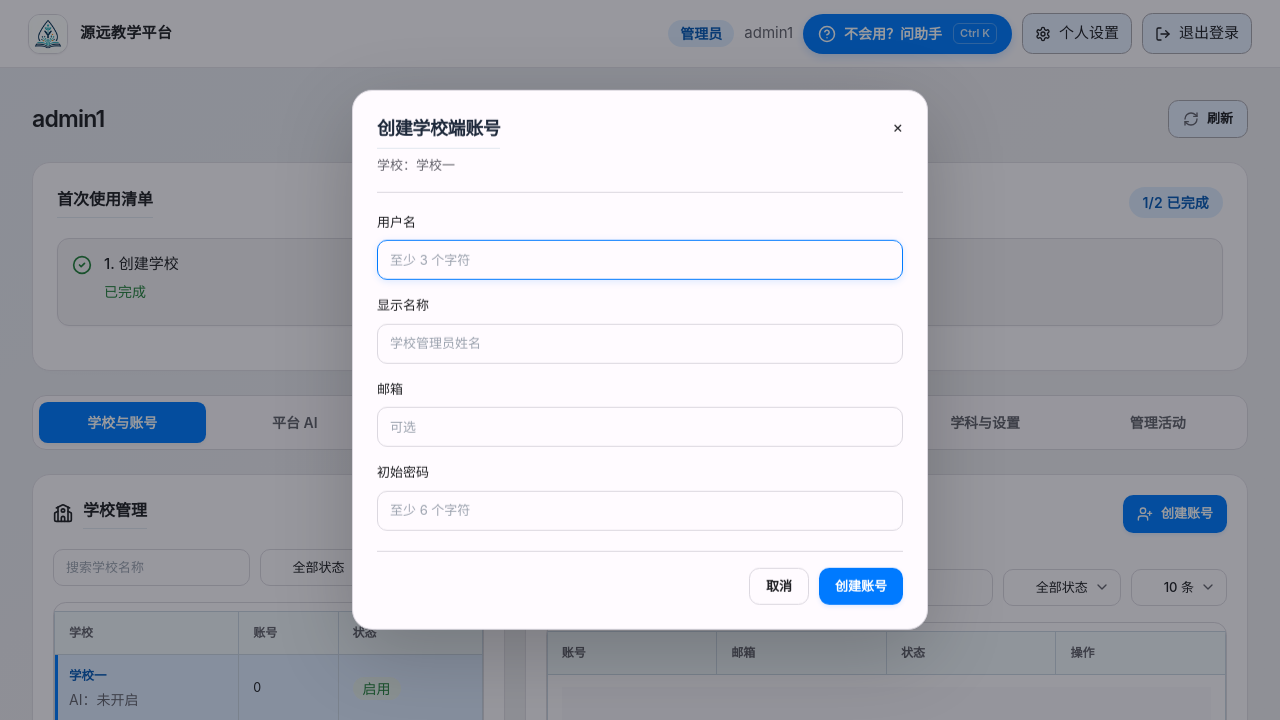
Test: AdminWorkspace › does not let a school-account operation overwrite the new school's open dialog
Earlier steps of the test are not shown.
Type "school_admin" into the field labelled "用户名".
click(640, 260); type("school_admin")  # box [377,240,903,280]
Type "学校管理员" into the field labelled "显示名称".
click(640, 344); type("学校管理员")  # box [377,324,903,364]
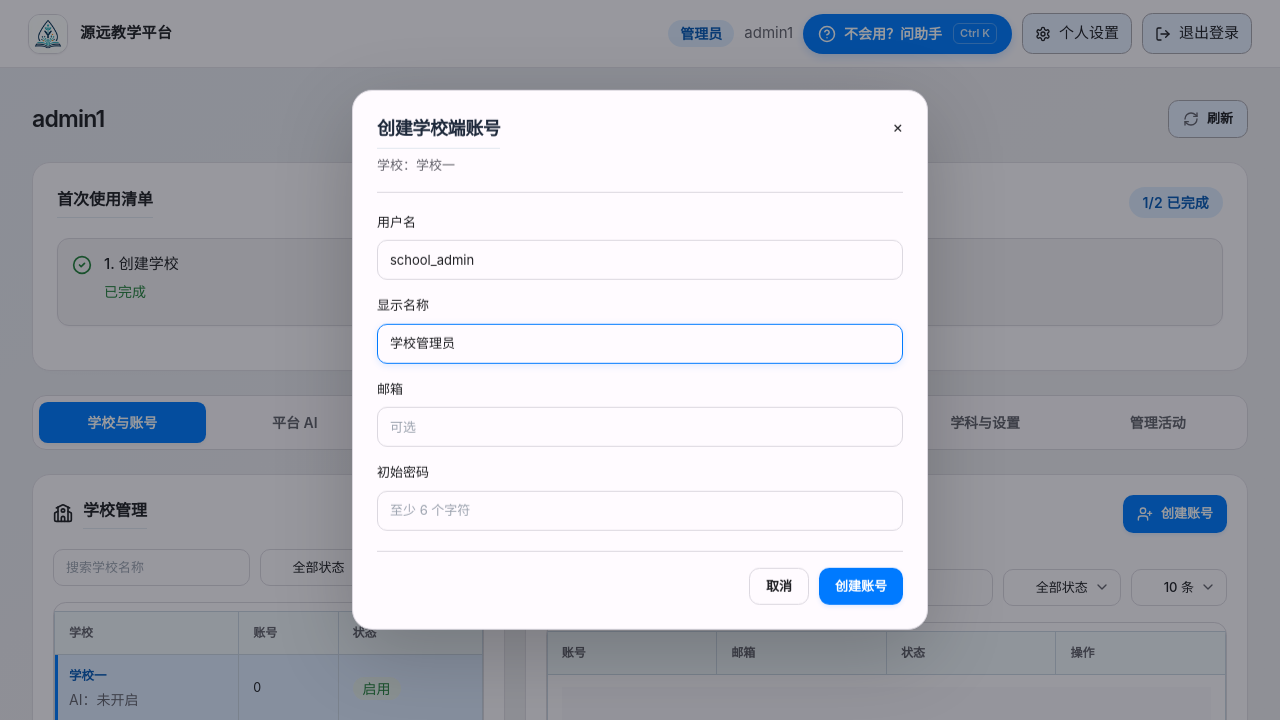
Type "password123" into the password field labelled "初始密码".
click(640, 511); type("password123")  # box [377,491,903,531]
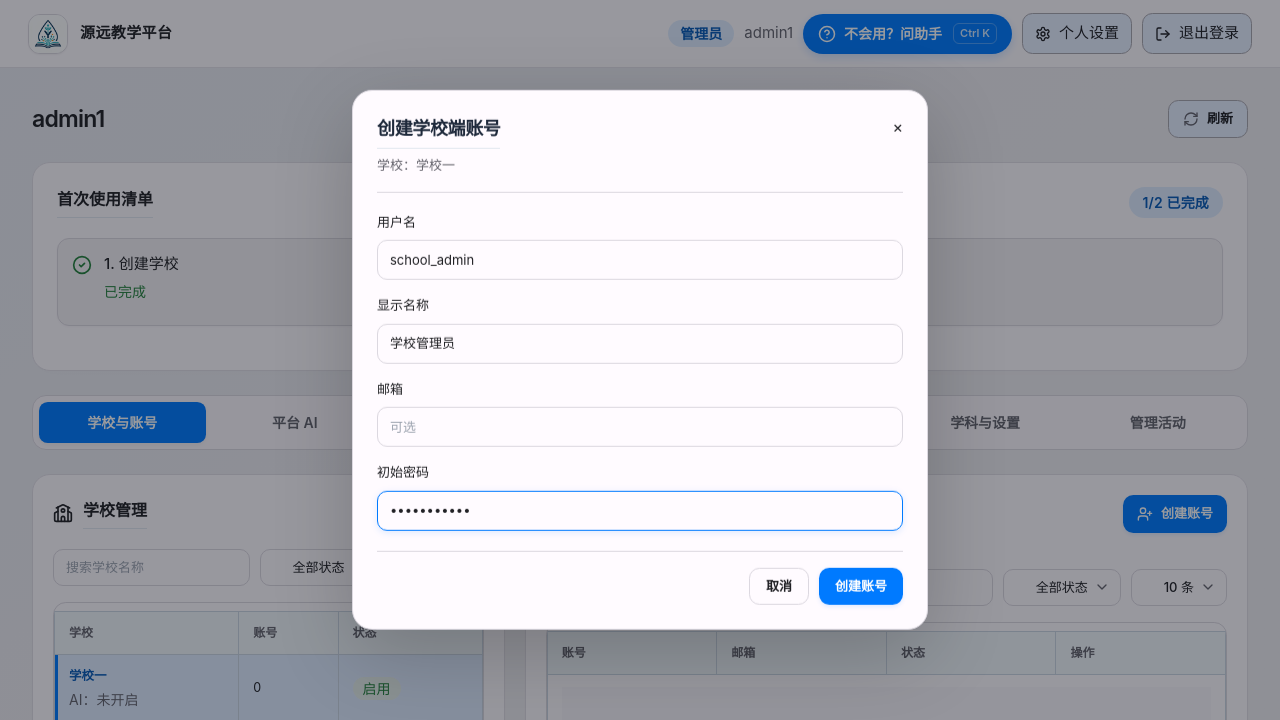
Click the button "创建账号".
click(861, 586)  # box [819,568,903,605]
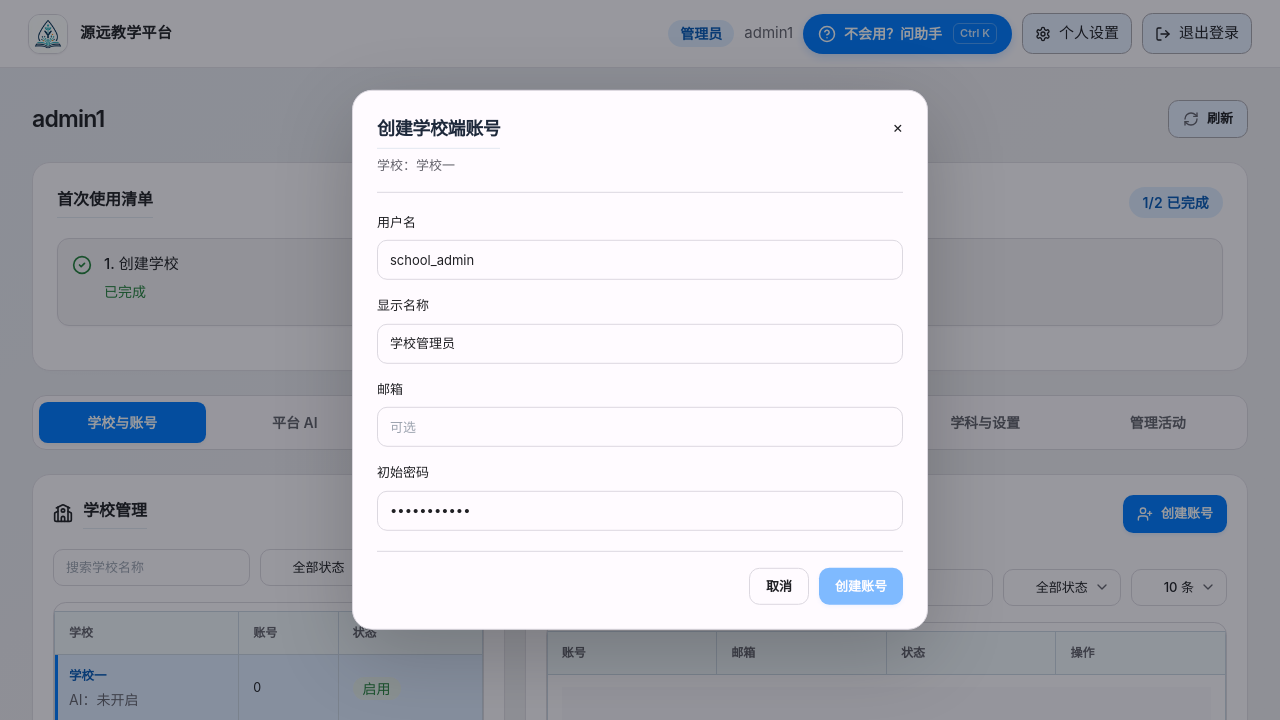
Press Escape
(page scrolled)
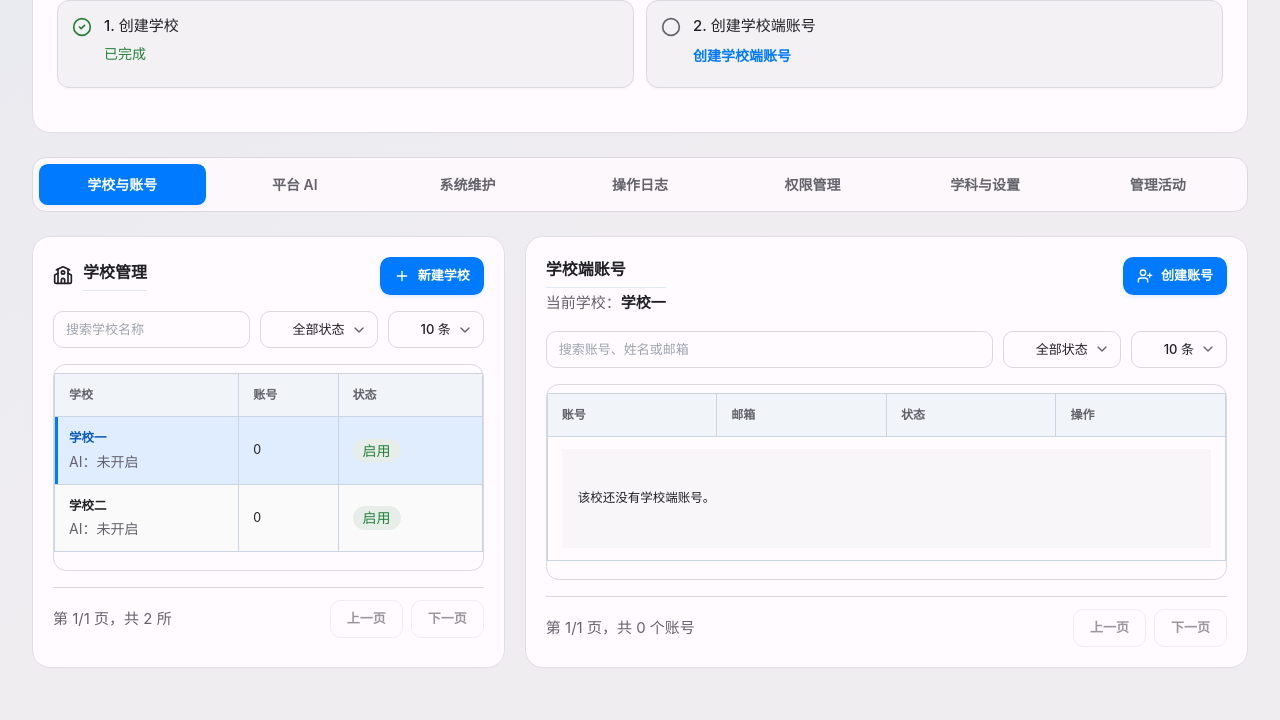
expect the dialog is gone: met
Click the button "学校二".
click(88, 506)  # box [69,497,106,516]
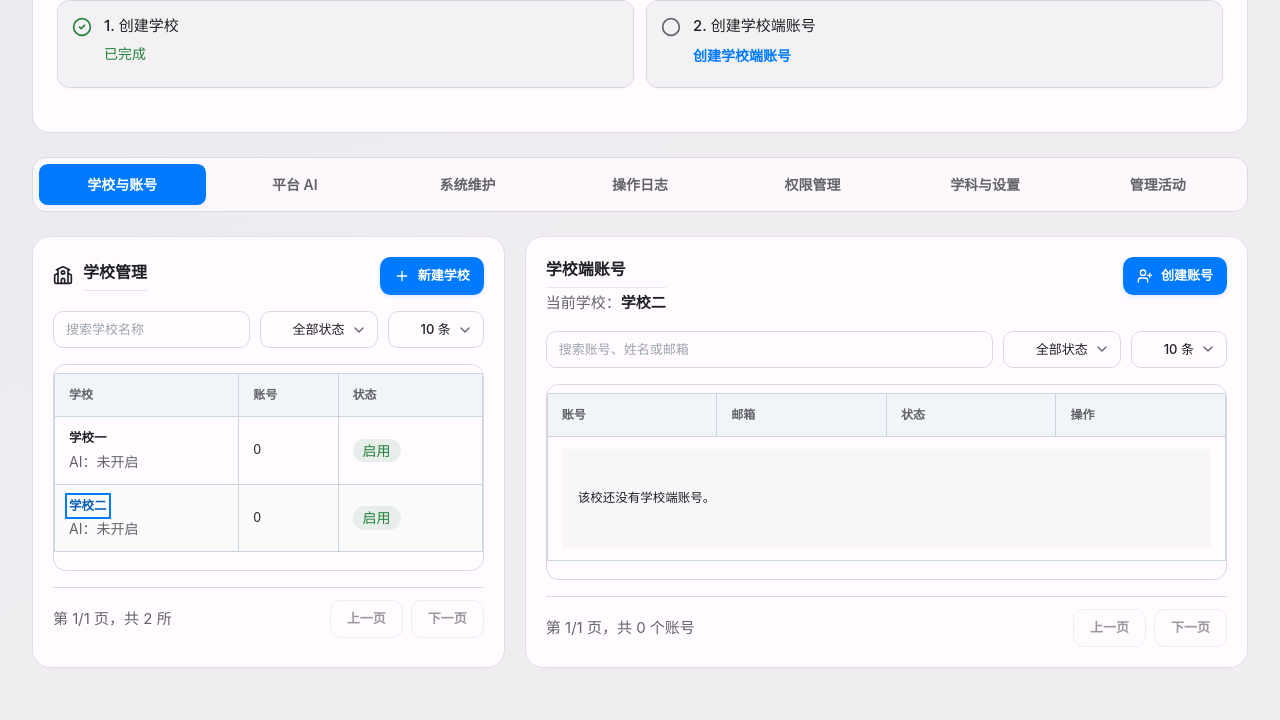
Click the button "创建账号".
click(1175, 276)  # box [1123,257,1227,295]
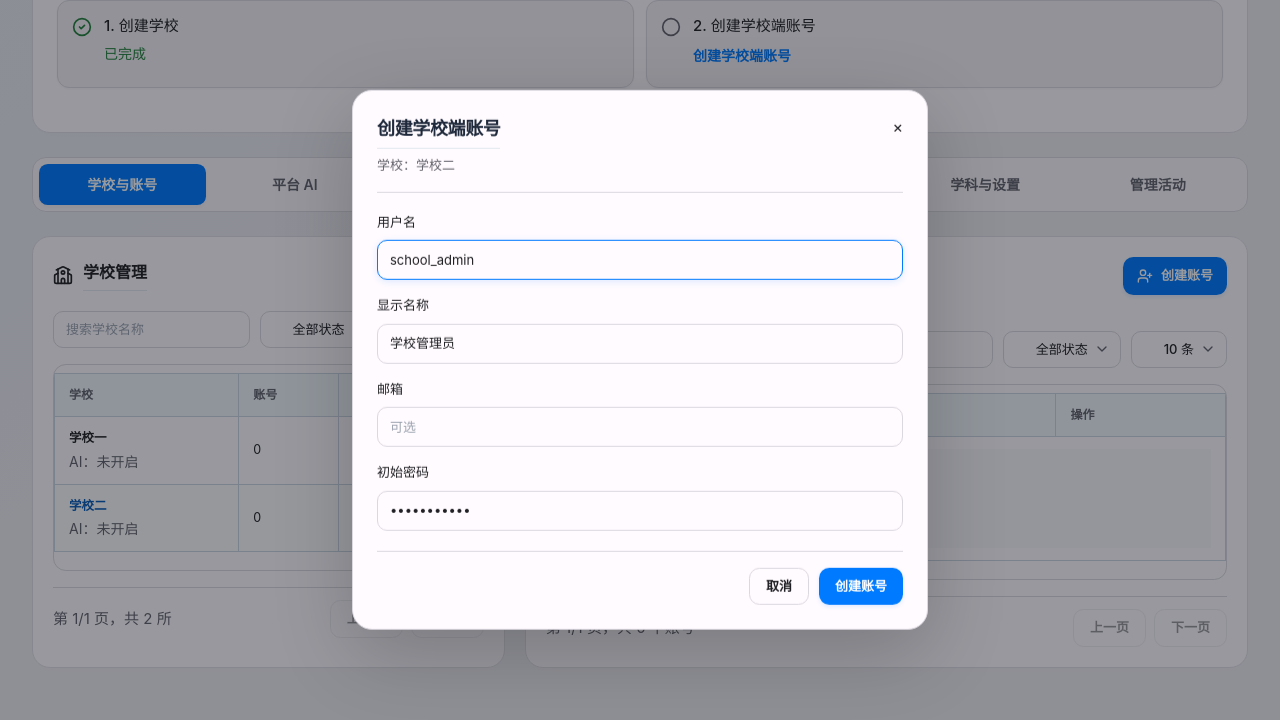
expect the dialog is shown: met, box [352,90,928,630]
expect the text "学校：学校二" is shown: met, box [377,157,455,173]
